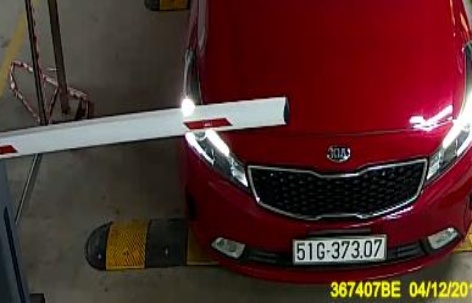plate: (289, 234, 387, 266)
